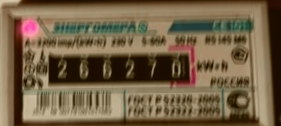0: (172, 60, 184, 77)
2: (56, 60, 70, 78), (125, 60, 137, 78)
6: (79, 60, 92, 79), (103, 61, 115, 79)
7: (148, 60, 160, 78)
screen: (39, 43, 203, 94)
